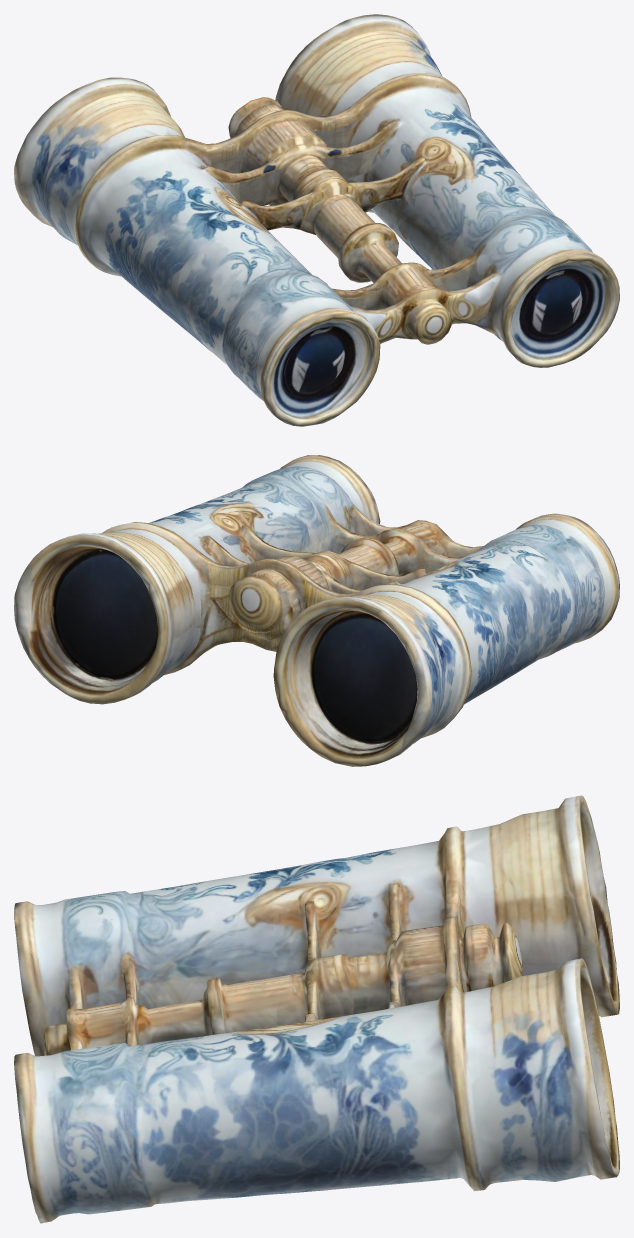
Rendered from Porcelain_Elegance_0223002548_texture.fbx.
3 renders of one model, top to bottom at view 1: azimuth 30°, elevation 25°; view 2: azimuth 150°, elevation 25°; view 3: azimuth 270°, elevation 25°, orthographic. The views are drawn at different scales.
Parts seen in each view (by area): view 1: Mesh1; view 2: Mesh1; view 3: Mesh1.
Part boxes in pixels (bbox=[...]): Mesh1: bbox=[14, 14, 619, 426]; Mesh1: bbox=[14, 455, 619, 766]; Mesh1: bbox=[14, 795, 619, 1223].
Bounding box in the file's own units: 200 × 90.2 × 196.
1 material, 1 textured.
